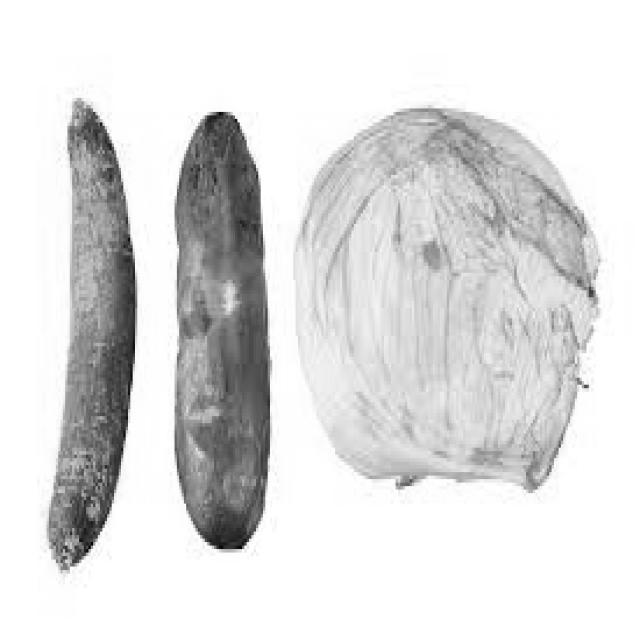Stale_Carrot: (45, 103, 136, 573)
